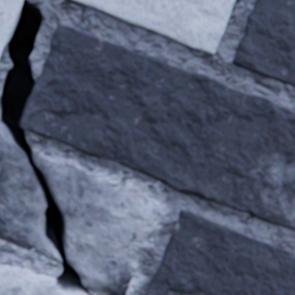brick: (20, 24, 294, 229), (146, 210, 294, 294), (71, 0, 234, 53), (232, 0, 294, 86), (0, 0, 23, 56)
broken_brick: (34, 155, 157, 294), (0, 123, 61, 260), (0, 264, 88, 294)
crack: (0, 1, 88, 293)
